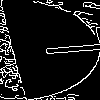L: (24, 25, 100, 59)
